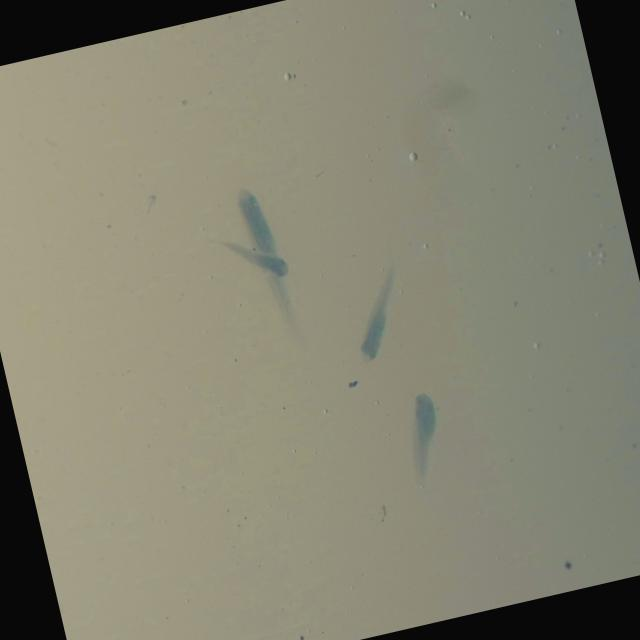Sivrisinek Baligi: (222, 182, 306, 342), (338, 262, 420, 360), (388, 389, 458, 495), (212, 225, 288, 288)
